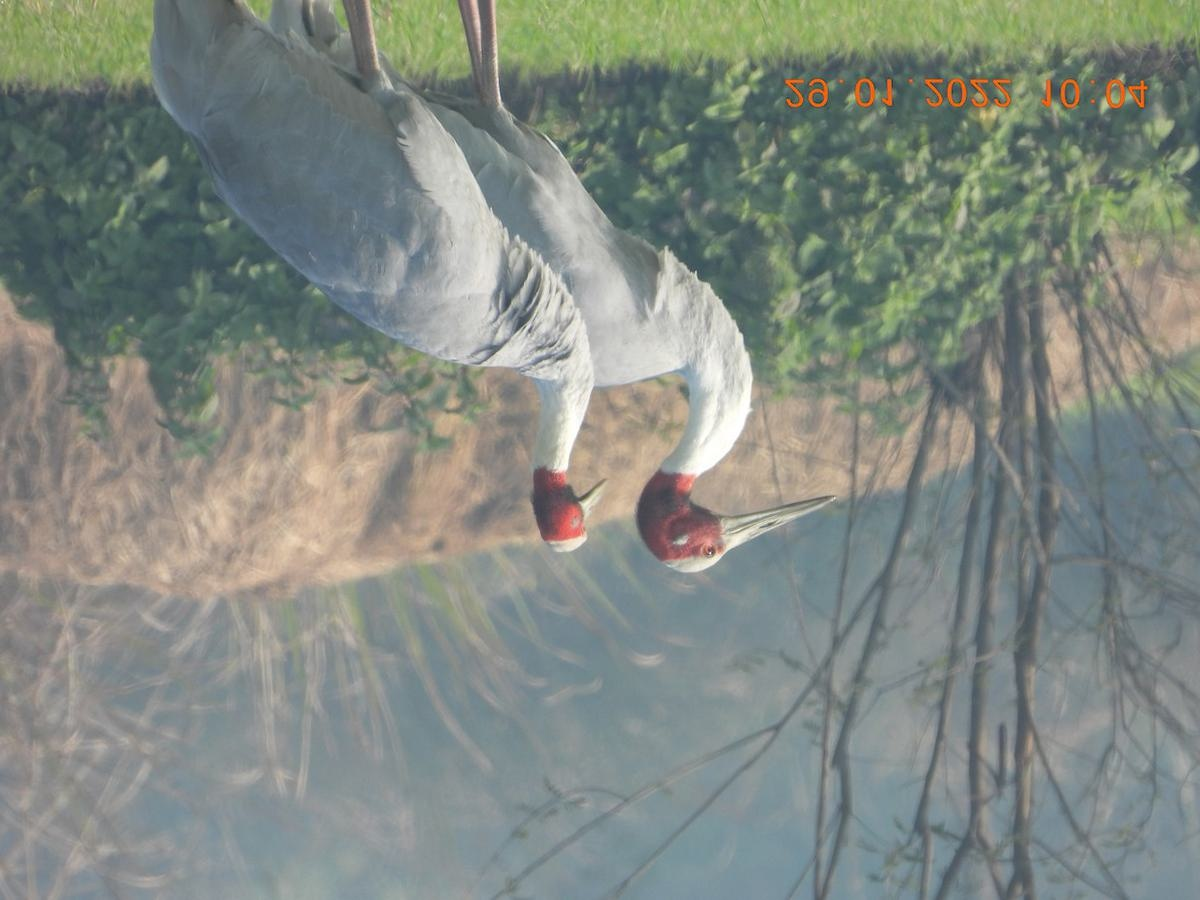crane: (89, 1, 615, 558), (429, 1, 846, 580)
